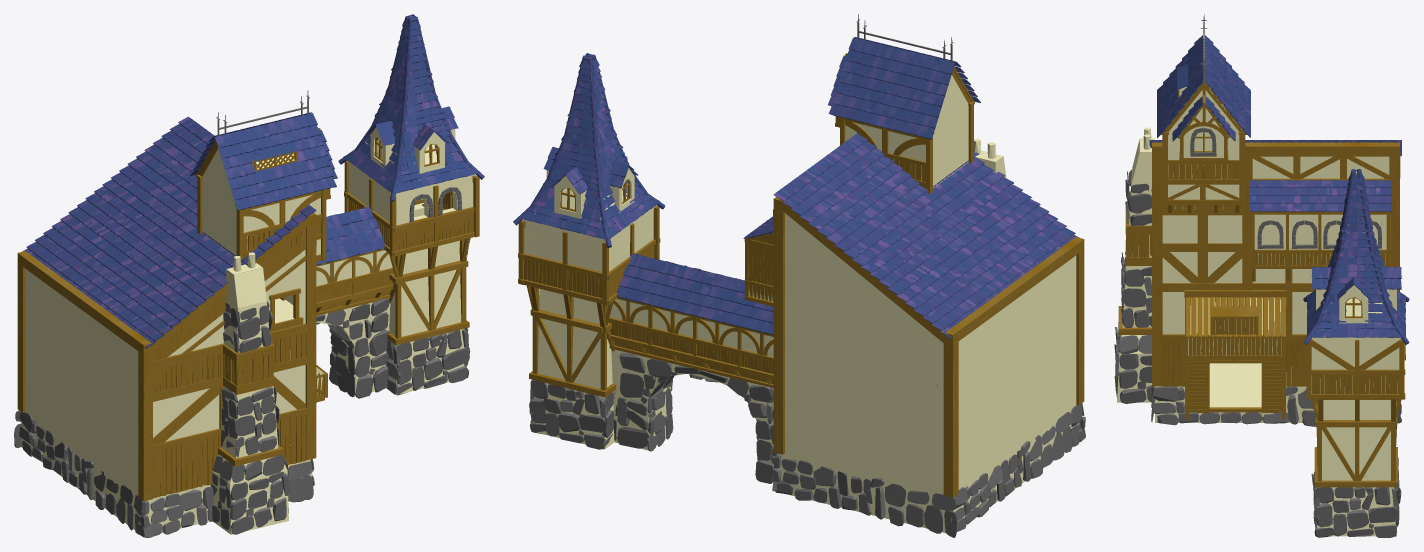
File: tavern-opt.glb
3 views of the same model, side by side, from view 1: azimuth 30°, elevation 25°; view 2: azimuth 150°, elevation 25°; view 3: azimuth 270°, elevation 25° (orthographic). The views are drawn at different scales.
Parts seen in each view (by area): view 1: tower.002, building.001, wood.001, Circle.002, boards.001; view 2: building.001, tower.002, wood.001, Circle.002, boards.001; view 3: wood.001, building.001, tower.002, Circle.002, boards.001.
Boxes of the visible parts, left/top/right/bottom form: tower.002: left=22, top=14, right=484, bottom=348; building.001: left=21, top=72, right=474, bottom=534; wood.001: left=17, top=128, right=479, bottom=501; Circle.002: left=14, top=90, right=470, bottom=537; boards.001: left=153, top=193, right=473, bottom=498; building.001: left=523, top=75, right=1079, bottom=532; tower.002: left=513, top=37, right=1079, bottom=338; wood.001: left=518, top=53, right=1084, bottom=497; Circle.002: left=529, top=14, right=1085, bottom=537; boards.001: left=524, top=157, right=925, bottom=384; wood.001: left=1118, top=38, right=1405, bottom=487; building.001: left=1117, top=87, right=1401, bottom=536; tower.002: left=1149, top=35, right=1409, bottom=344; Circle.002: left=1114, top=14, right=1401, bottom=537; boards.001: left=1126, top=164, right=1399, bottom=412.
Bounding box in the file's own units: 17.79 × 15.51 × 10.94.
Materials: 6 (6 with a texture image).
